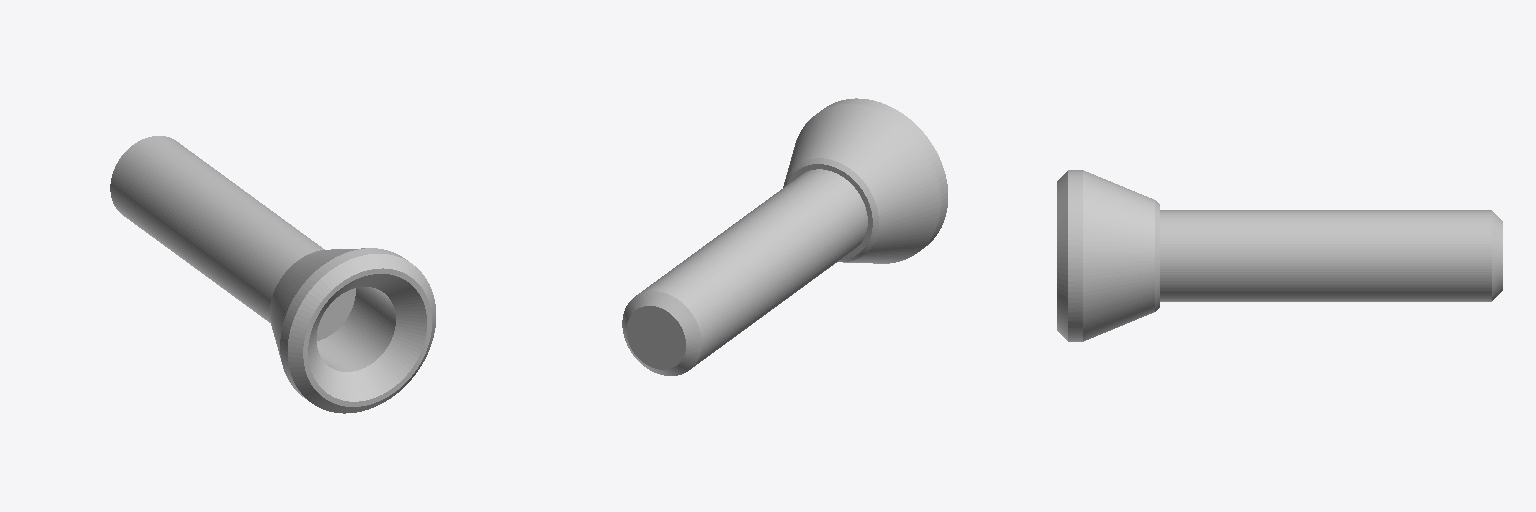
The model's file is flashlight_rs_gb.obj.
3 renders of one model, left to right at view 1: azimuth 30°, elevation 25°; view 2: azimuth 150°, elevation 25°; view 3: azimuth 270°, elevation 25°, orthographic.
Visible parts, largest first — view 1: ____02, ____01; view 2: ____01, ____02; view 3: ____01, ____02.
Part boxes in pixels (x1,y1,x2,y2): ____02: (270,248,435,413); ____01: (110,136,355,340); ____01: (622,169,867,375); ____02: (783,98,947,263); ____01: (1160,210,1502,301); ____02: (1057,170,1159,341).
Bounding box in the file's own units: 0.15 × 0.15 × 0.39.